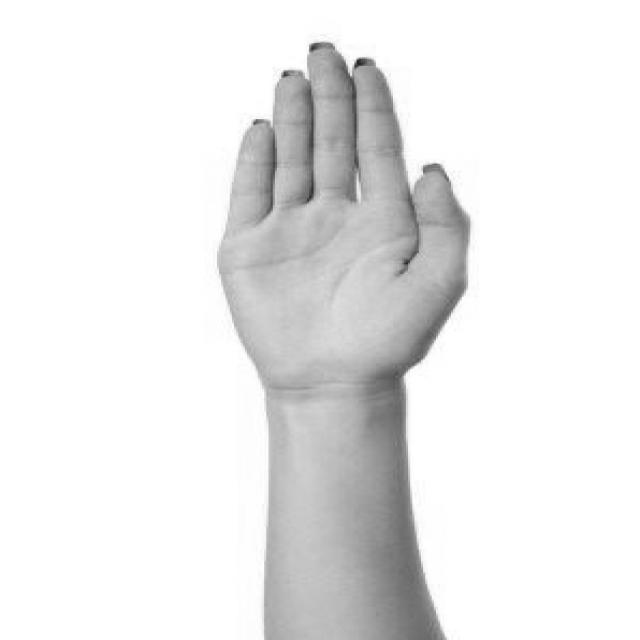stop: (205, 34, 480, 410)
